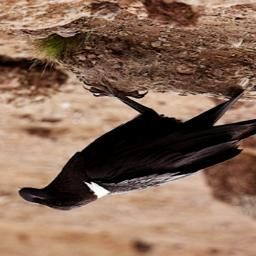Crow: (14, 73, 256, 215)
